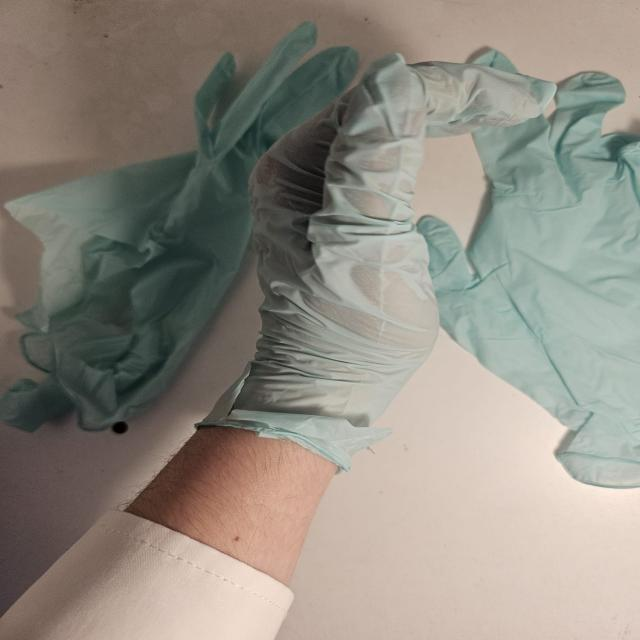gloves_damaged: (193, 51, 554, 465)
